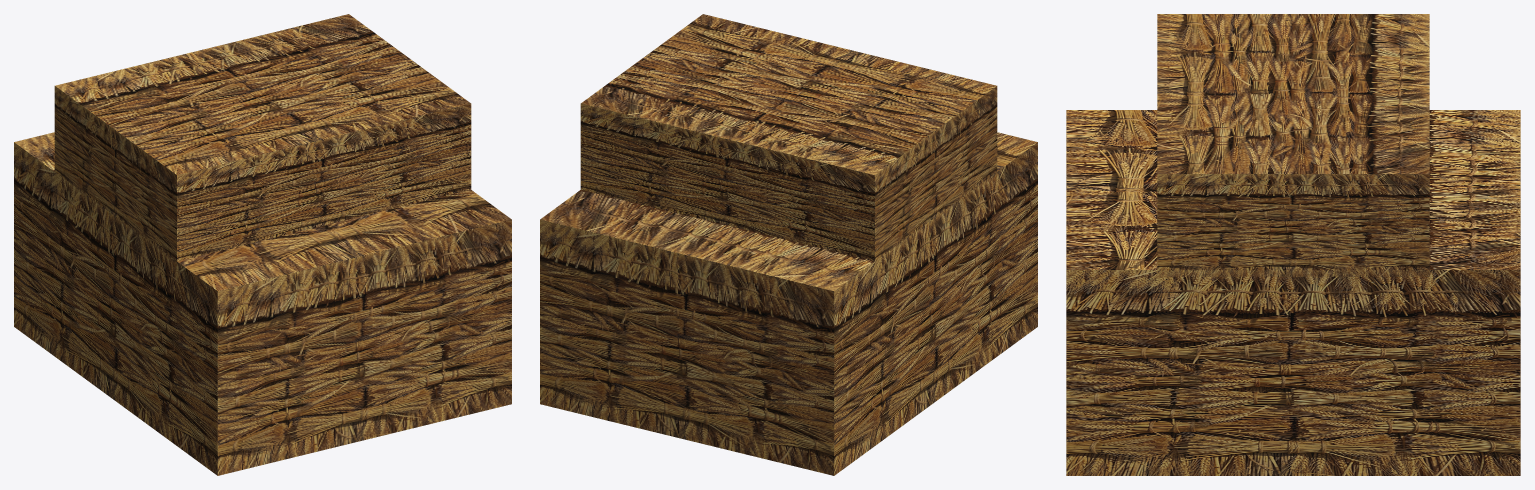
File: pig_ranch.obj
3 views of the same model, side by side, from view 1: azimuth 30°, elevation 25°; view 2: azimuth 150°, elevation 25°; view 3: azimuth 270°, elevation 25° (orthographic). The views are drawn at different scales.
Visible parts, largest first — view 1: building; view 2: building; view 3: building.
Boxes of the visible parts, box(x1,y1,x2,y2) form: building: box(14, 14, 511, 475); building: box(540, 14, 1037, 475); building: box(1066, 14, 1520, 475).
Size of the model in its own units: 2.5 by 2.2 by 3.
